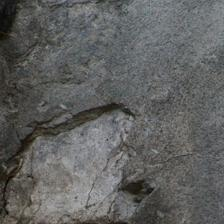Crack: (3, 52, 124, 163)
